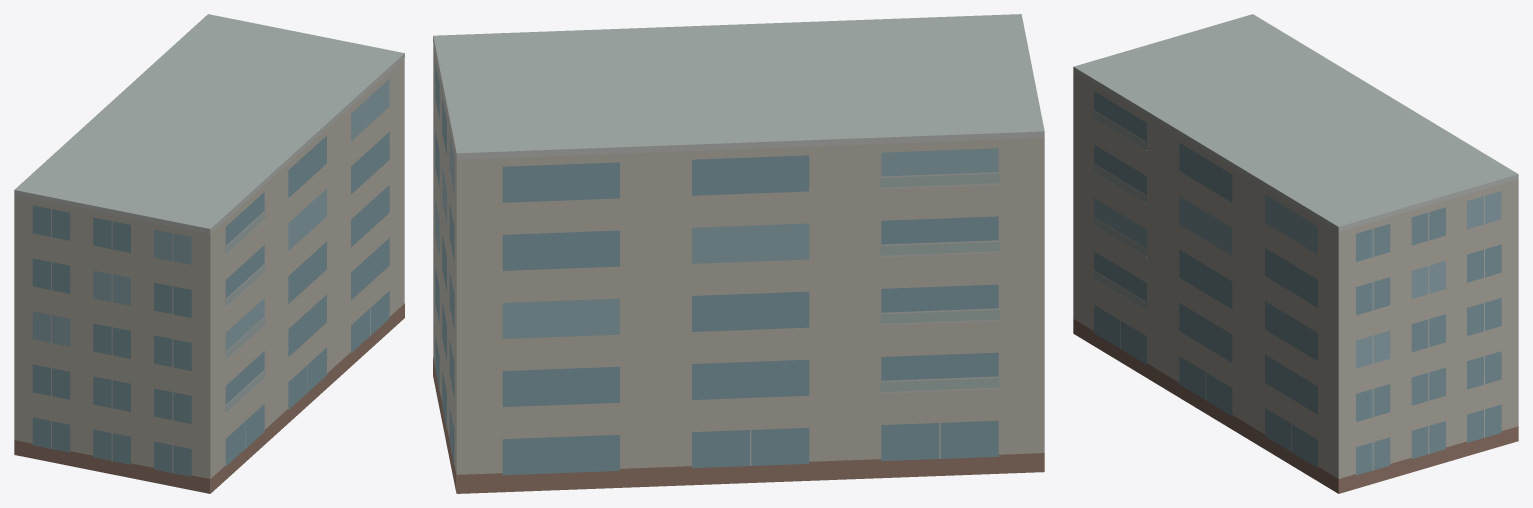
Rendered from survey-upis-33037516.glb.
3 views of the same model, side by side, from view 1: azimuth 30°, elevation 25°; view 2: azimuth 150°, elevation 25°; view 3: azimuth 270°, elevation 25° (orthographic). The views are drawn at different scales.
Visible parts, largest first — view 1: survey-upis-33037516.tmp; view 2: survey-upis-33037516.tmp; view 3: survey-upis-33037516.tmp.
Part boxes in pixels (x1,y1,x2,y2): survey-upis-33037516.tmp: (14, 14, 404, 493); survey-upis-33037516.tmp: (433, 14, 1044, 493); survey-upis-33037516.tmp: (1073, 14, 1518, 493).
Bounding box in the file's own units: 22.51 × 13.15 × 19.89.
